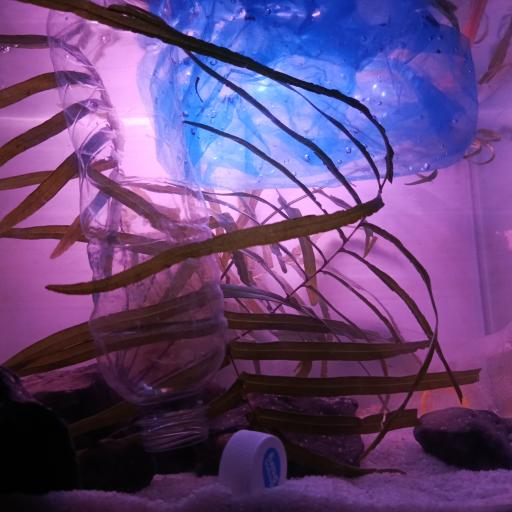bottle_cap: (224, 428, 282, 500), (418, 382, 469, 414)
plastic_bag: (139, 0, 483, 201)
plastic_bottle: (43, 0, 232, 454)
plastic_straw: (463, 0, 486, 46)
